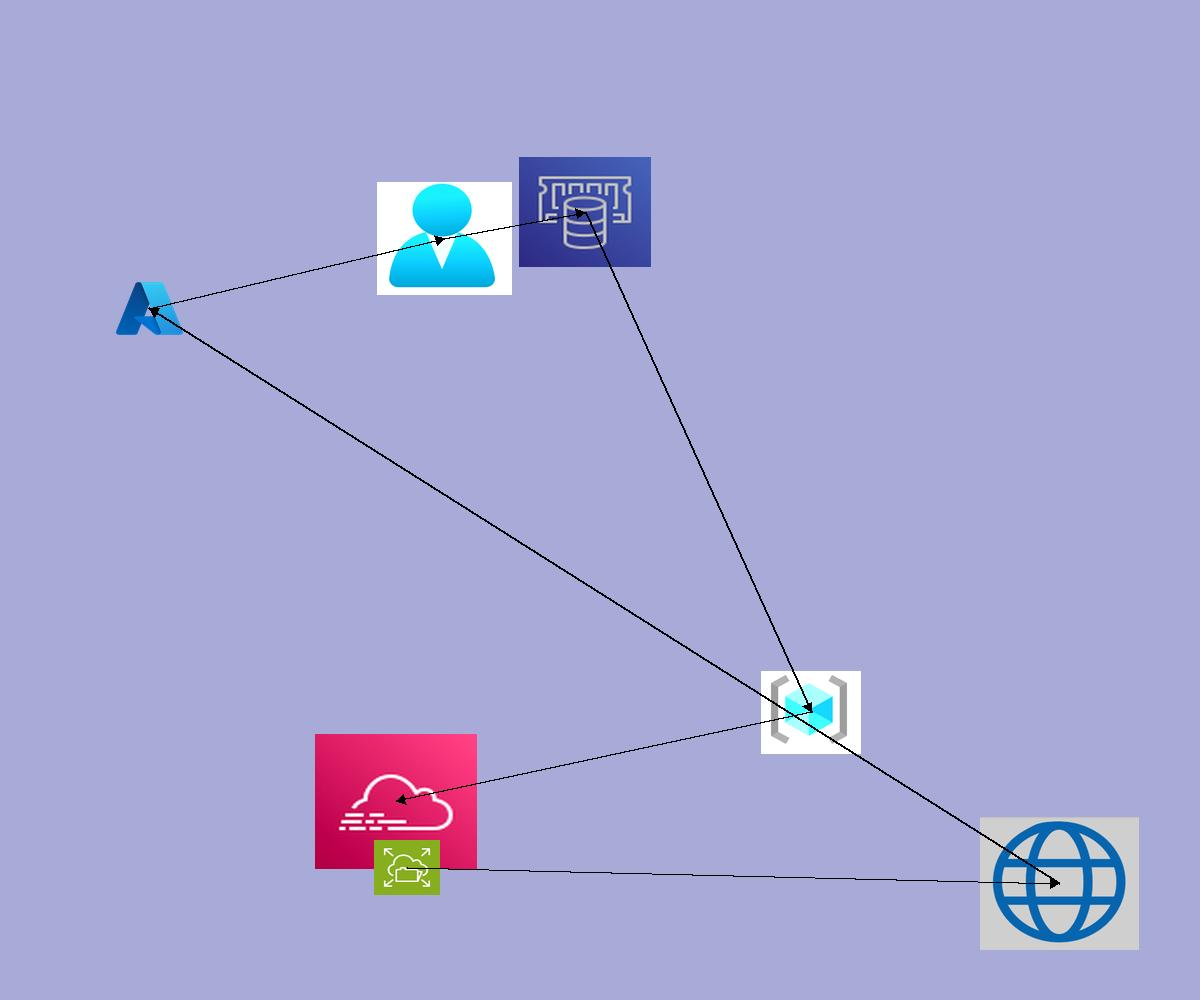AWS-CloudTrail: (315, 734, 477, 869)
AWS-EFS: (374, 840, 440, 895)
AWS-ElastiCache: (519, 157, 651, 267)
Azure_http: (980, 817, 1139, 950)
Azure_resource_group: (761, 671, 861, 754)
Azure_services: (113, 278, 186, 339)
Azure_users: (377, 182, 512, 295)
